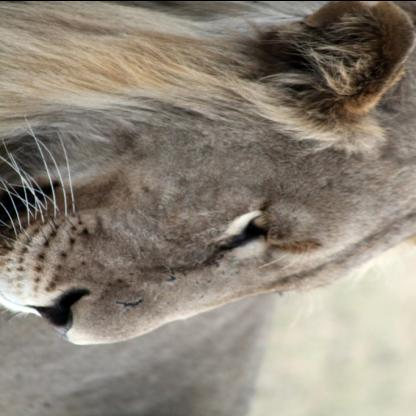lion: (1, 1, 415, 351)
